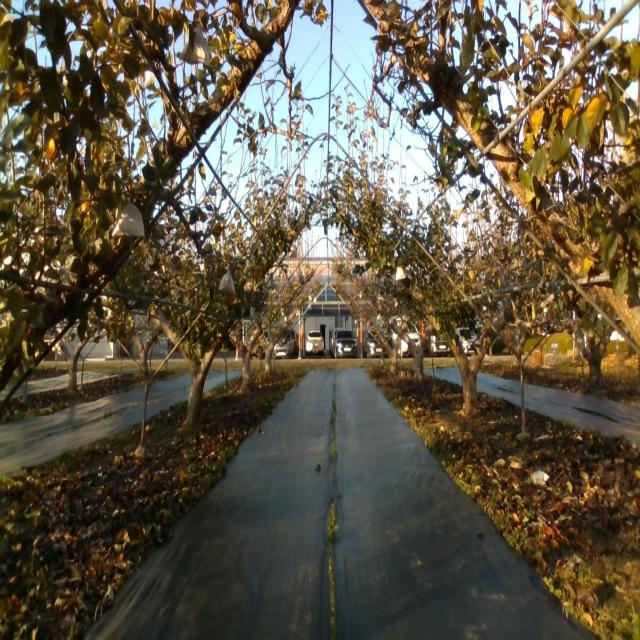pearbags: (180, 27, 212, 66), (112, 202, 145, 237), (219, 271, 235, 294)
